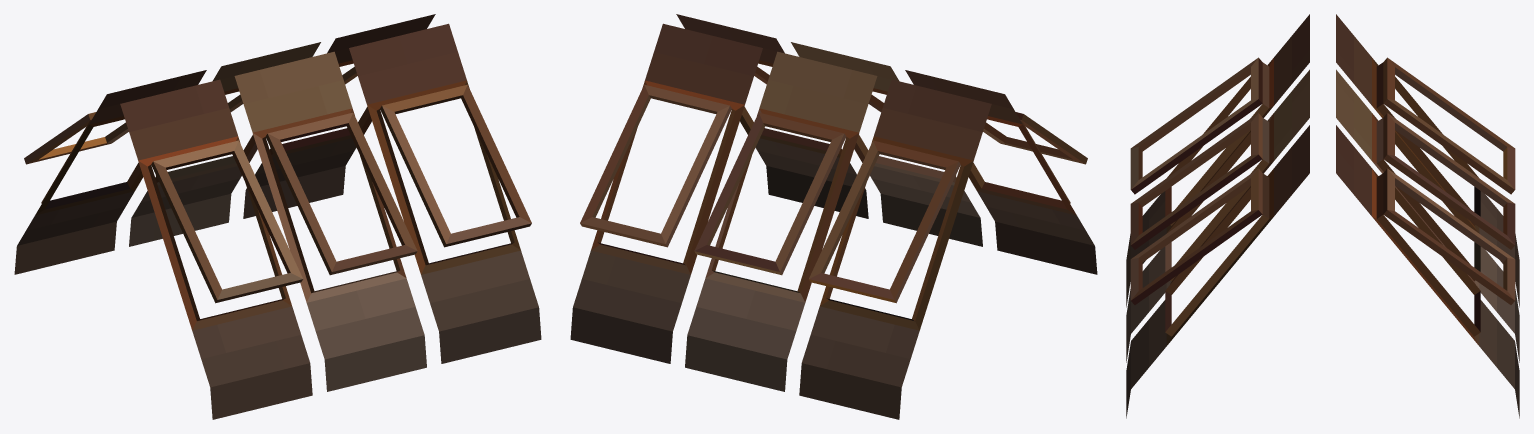
File: Ceiling_HomeA-RoofPanelC-6m.fbx
3 views of the same model, side by side, from view 1: azimuth 30°, elevation 25°; view 2: azimuth 150°, elevation 25°; view 3: azimuth 270°, elevation 25° (orthographic).
Visible parts, largest first — view 1: Ceiling_HomeA-RoofPanelC-6m; view 2: Ceiling_HomeA-RoofPanelC-6m; view 3: Ceiling_HomeA-RoofPanelC-6m.
Part boxes in pixels (<box>): Ceiling_HomeA-RoofPanelC-6m: <box>14,14,541,419</box>; Ceiling_HomeA-RoofPanelC-6m: <box>570,14,1097,419</box>; Ceiling_HomeA-RoofPanelC-6m: <box>1126,14,1519,418</box>.
Bounding box in the file's own units: 575 × 415 × 600.
